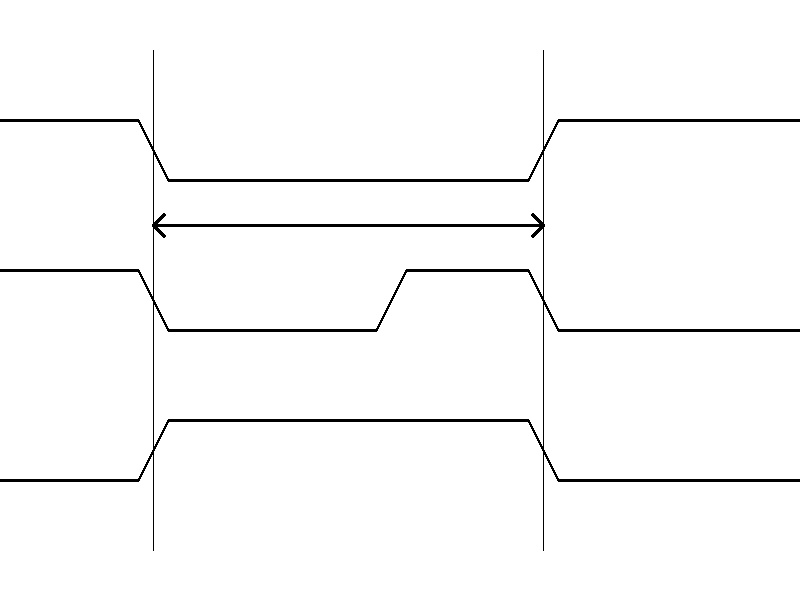double_arrow: (153, 210, 543, 240)
